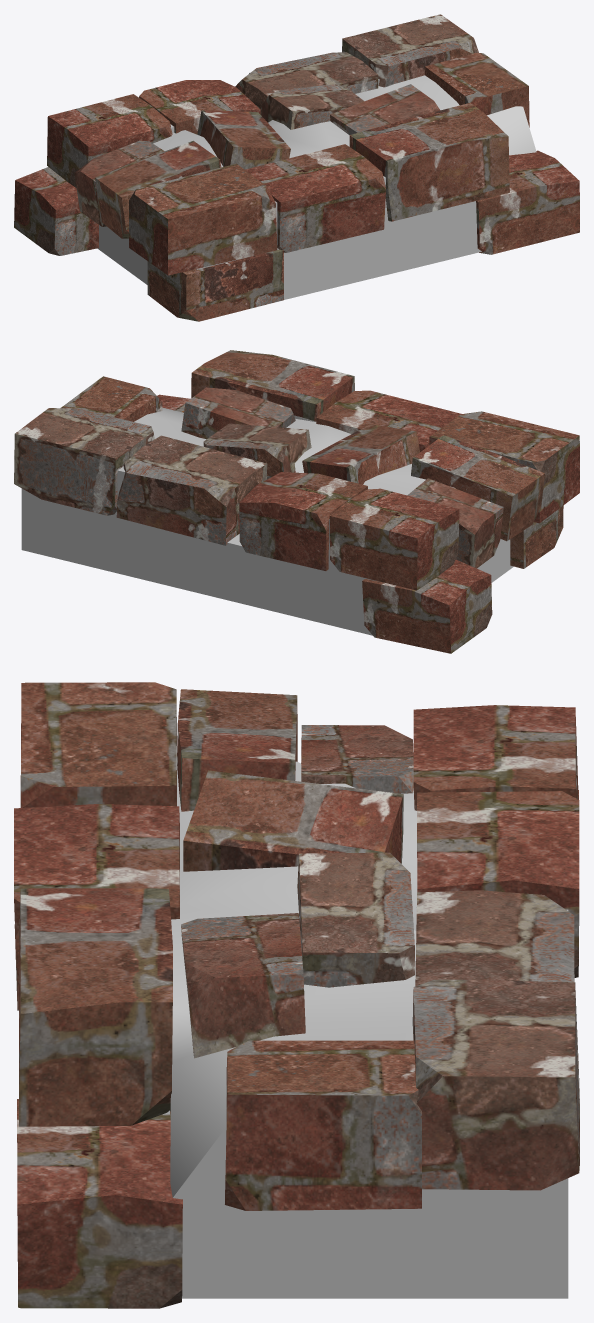
Rendered from SM_Wall_Thick_Ruined_014.fbx.
3 views of the same model, one above another, from view 1: azimuth 30°, elevation 25°; view 2: azimuth 150°, elevation 25°; view 3: azimuth 270°, elevation 25° (orthographic). The views are drawn at different scales.
Visible parts, largest first — view 1: SM_Wall_Thick_Ruined_014_LOD0; view 2: SM_Wall_Thick_Ruined_014_LOD0; view 3: SM_Wall_Thick_Ruined_014_LOD0.
Part boxes in pixels (x1=…): SM_Wall_Thick_Ruined_014_LOD0: x1=14, y1=14, x2=579, y2=321; SM_Wall_Thick_Ruined_014_LOD0: x1=14, y1=350, x2=579, y2=653; SM_Wall_Thick_Ruined_014_LOD0: x1=14, y1=682, x2=579, y2=1308.
Size of what is drawn, in the model's own units: 227 by 63.6 by 131.
